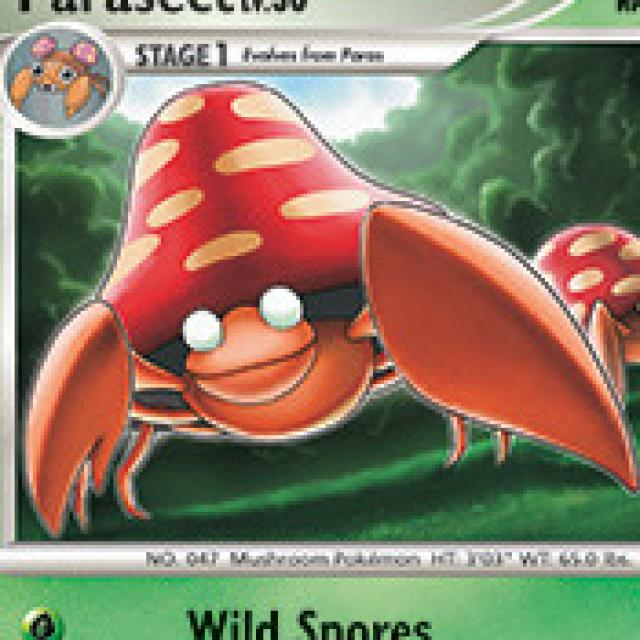Parasect: (45, 95, 627, 484)
